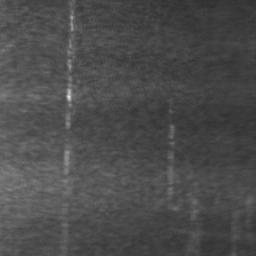Bright scratch: (61, 0, 75, 256), (167, 103, 175, 196)
